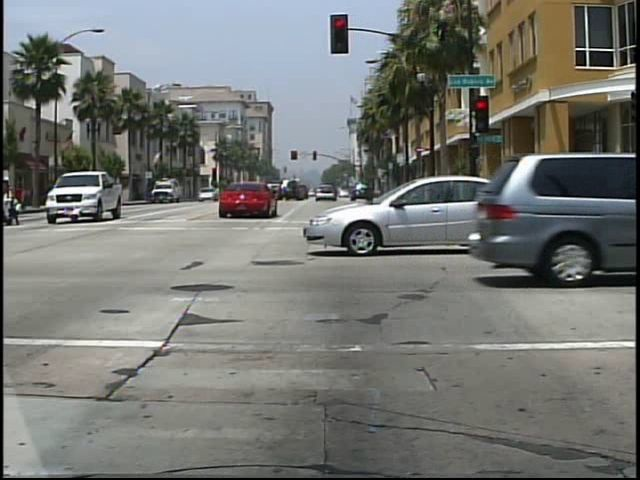person: (2, 173, 27, 229)
